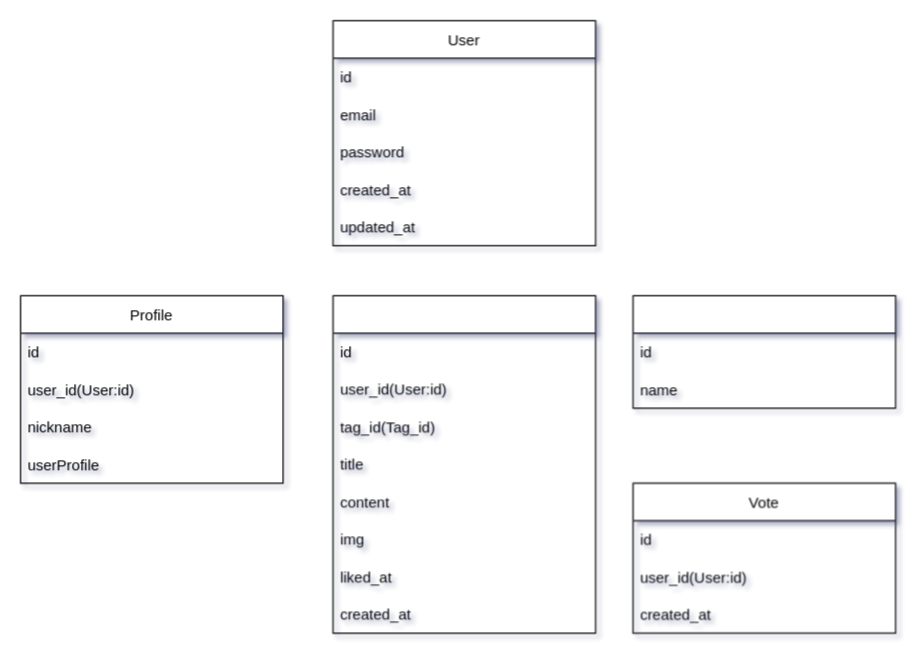
This 916x654 diagram has some shape labels left out. The shapes that lost their labels are listed below. From the top down, each one's box as (x1, y1, x2, y2) in pixels, then its label:
(632, 294, 896, 408): Tag
(332, 294, 596, 633): Post
